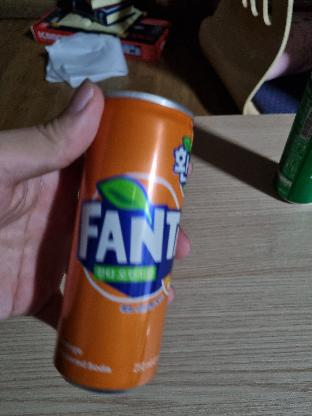Can: (70, 87, 194, 398)
